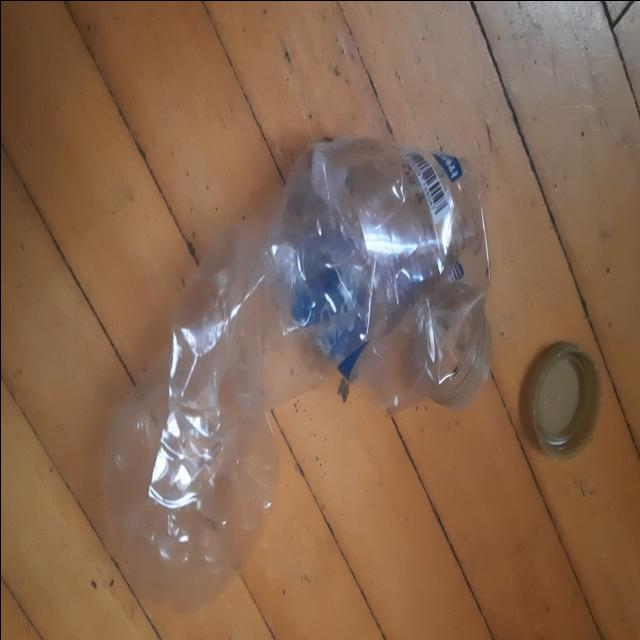Plastic: (100, 136, 490, 614)
